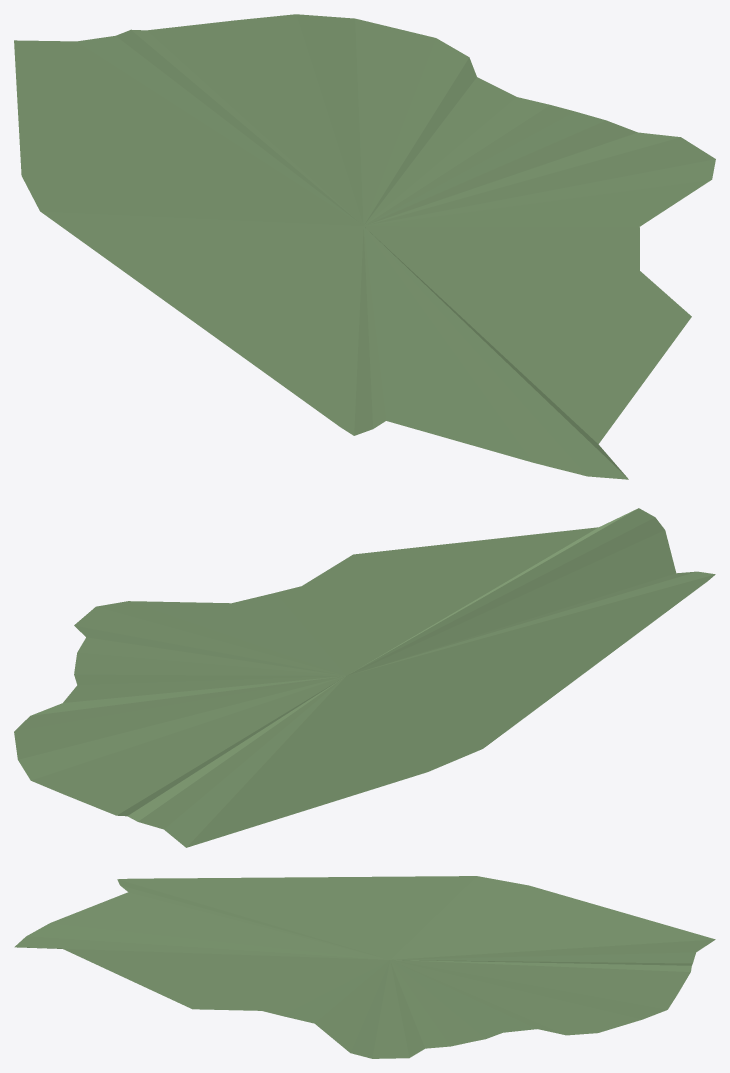
The model's file is c_1629_17826_parks.glb.
The picture shows the model from 3 angles, top to bottom: view 1: azimuth 30°, elevation 25°; view 2: azimuth 150°, elevation 25°; view 3: azimuth 270°, elevation 25°; orthographic projection. The views are drawn at different scales.
Visible parts, largest first — view 1: geometry_0; view 2: geometry_0; view 3: geometry_0.
Boxes of the visible parts, x1,y1,x2,y2 form: geometry_0: (14,14,715,479); geometry_0: (14,508,715,847); geometry_0: (14,876,715,1058).
Size of the model in its own units: 293 by 13.14 by 518.
